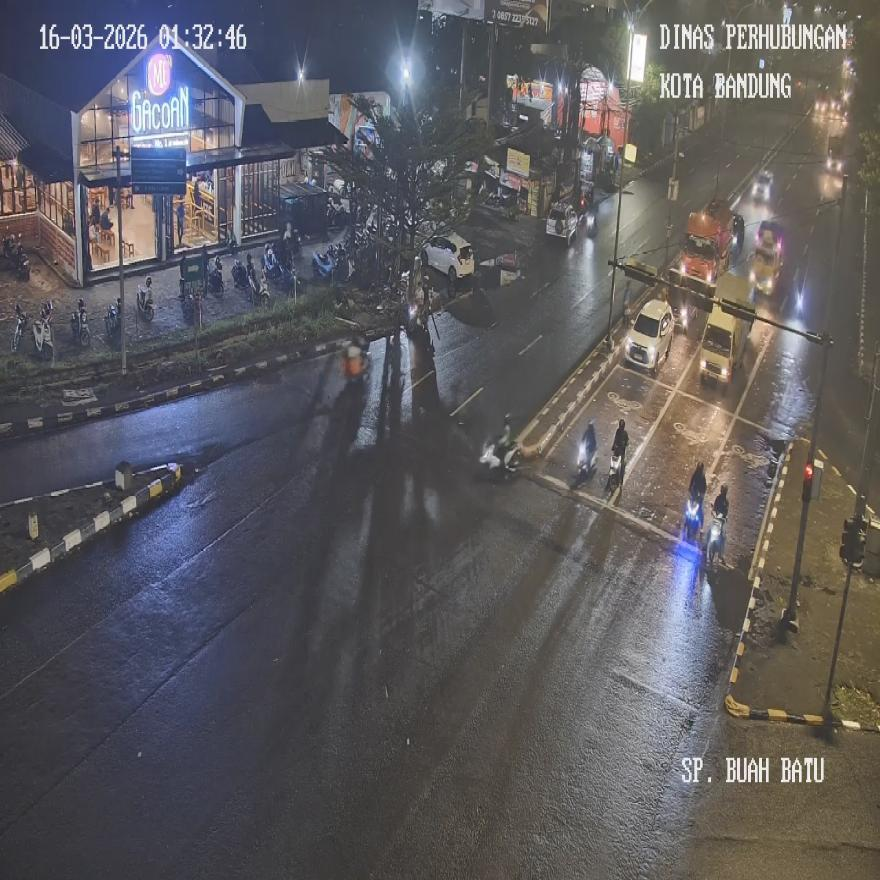Motor: (699, 270, 754, 391), (624, 297, 673, 373), (420, 232, 474, 292)
Truk: (479, 433, 521, 479), (342, 334, 370, 385), (2, 232, 30, 281), (705, 514, 725, 570), (578, 420, 596, 476), (683, 491, 702, 542), (32, 314, 53, 359), (71, 298, 90, 347), (605, 447, 624, 495), (312, 246, 336, 284), (136, 276, 154, 323), (12, 302, 28, 352), (252, 271, 272, 308), (104, 297, 120, 340), (207, 257, 224, 297), (232, 258, 248, 288)
